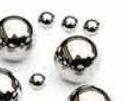ironball: (53, 34, 102, 84), (0, 14, 36, 62), (0, 67, 27, 100), (67, 83, 111, 100), (59, 14, 79, 33), (38, 10, 56, 27), (83, 18, 100, 36), (29, 70, 46, 88)
